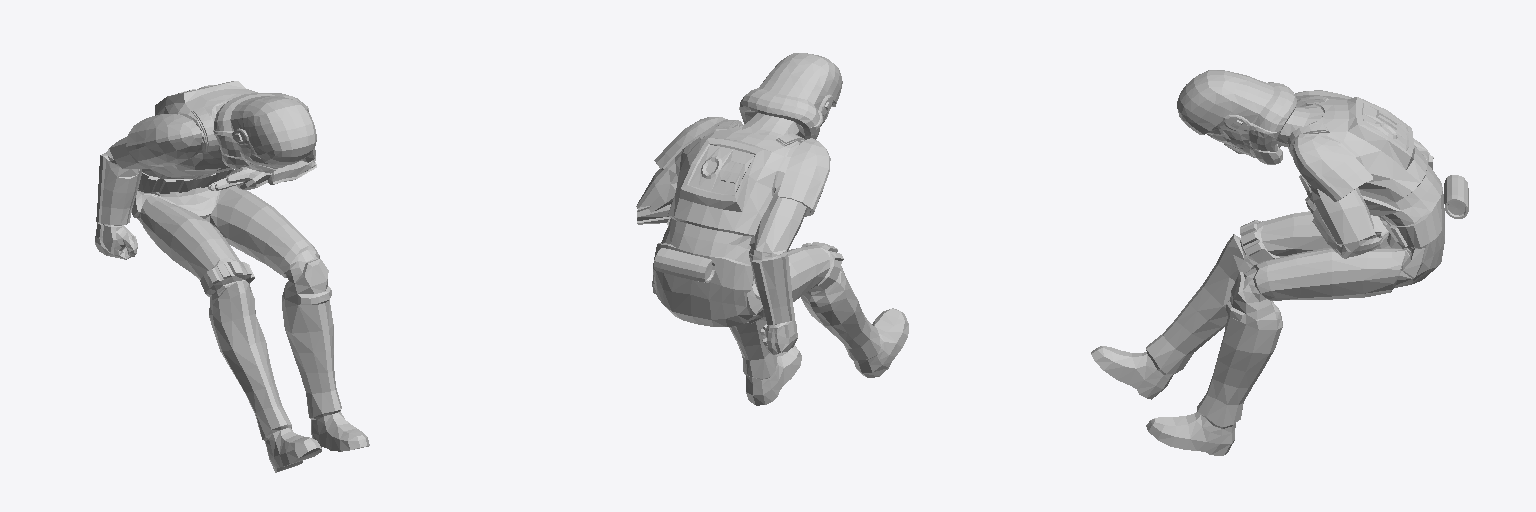
The model's file is Move_000239.obj.
The picture shows the model from 3 angles: view 1: azimuth 30°, elevation 25°; view 2: azimuth 150°, elevation 25°; view 3: azimuth 270°, elevation 25°; orthographic projection.
Size of the model in its own units: 1.37 by 2.52 by 2.43.